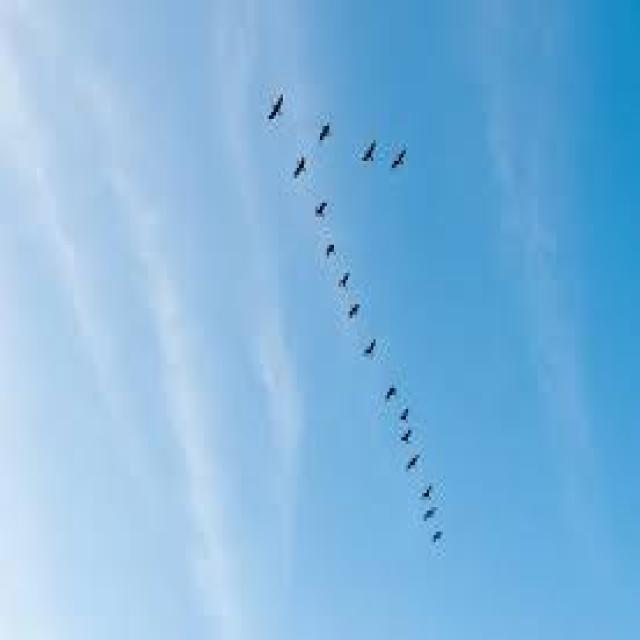bird: (350, 322, 387, 378), (378, 362, 410, 411), (323, 262, 368, 294), (330, 294, 380, 322), (258, 87, 288, 133), (409, 479, 449, 504), (415, 502, 450, 530), (390, 400, 426, 425), (388, 143, 416, 175), (304, 194, 334, 222), (284, 152, 310, 184), (315, 236, 348, 261), (312, 112, 335, 147), (355, 133, 378, 168), (396, 449, 426, 474), (431, 524, 448, 552), (396, 426, 420, 444)
